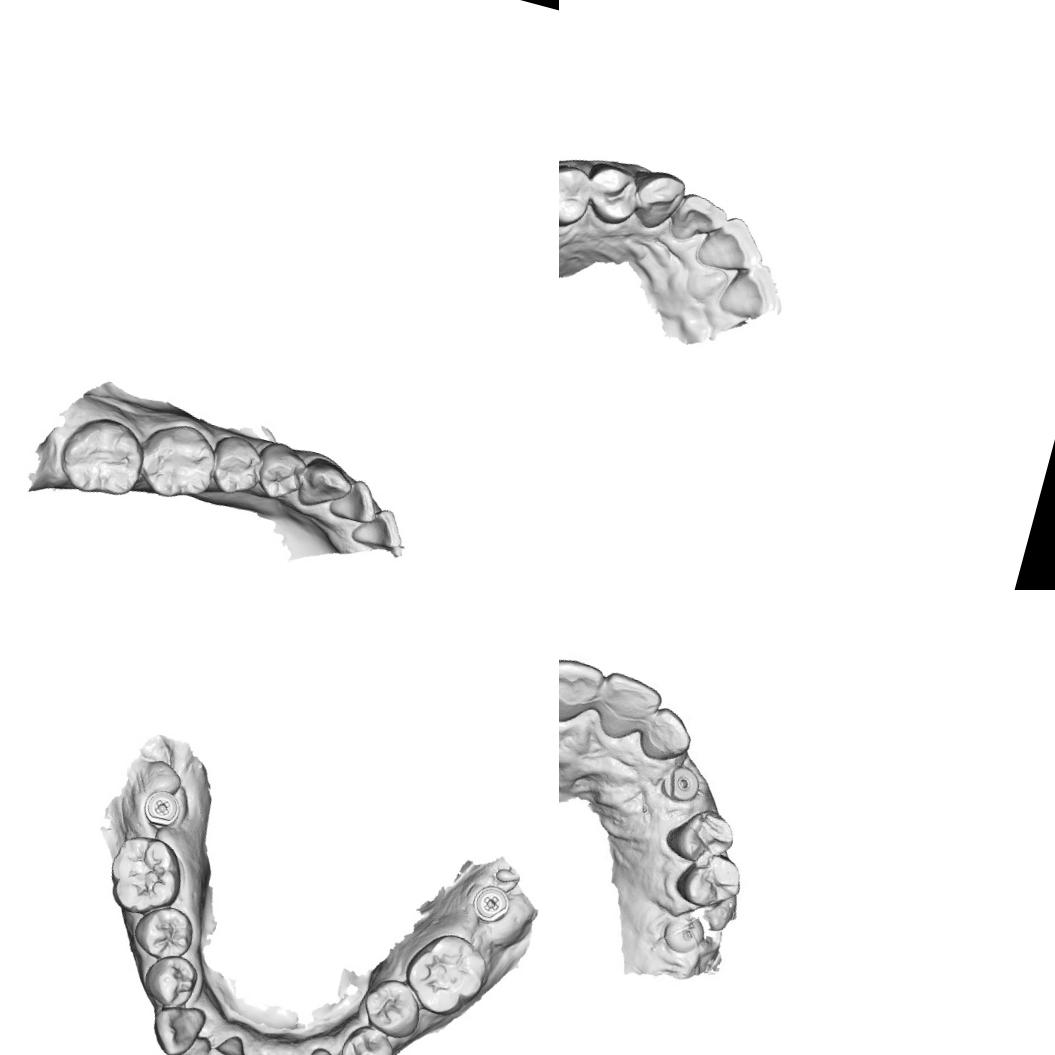canine: (624, 160, 694, 246), (290, 452, 358, 518), (142, 994, 211, 1055)
implant: (662, 906, 708, 956), (660, 760, 704, 808)
implant_plus: (466, 879, 514, 929), (137, 784, 186, 830)
incisor: (584, 666, 664, 746), (692, 206, 768, 278), (665, 182, 733, 258), (714, 253, 784, 325), (634, 703, 698, 770), (346, 498, 412, 558), (324, 471, 385, 530), (559, 650, 605, 728), (200, 1019, 261, 1055), (162, 1026, 221, 1055)
molar: (394, 922, 495, 1025), (50, 407, 153, 507), (97, 826, 194, 926), (130, 412, 228, 510)
premolar: (664, 797, 742, 873), (354, 970, 432, 1045), (204, 424, 274, 504), (126, 896, 203, 968), (669, 848, 747, 917), (248, 434, 316, 508), (579, 155, 646, 230), (134, 947, 206, 1016), (559, 157, 599, 232), (333, 1017, 400, 1055)
